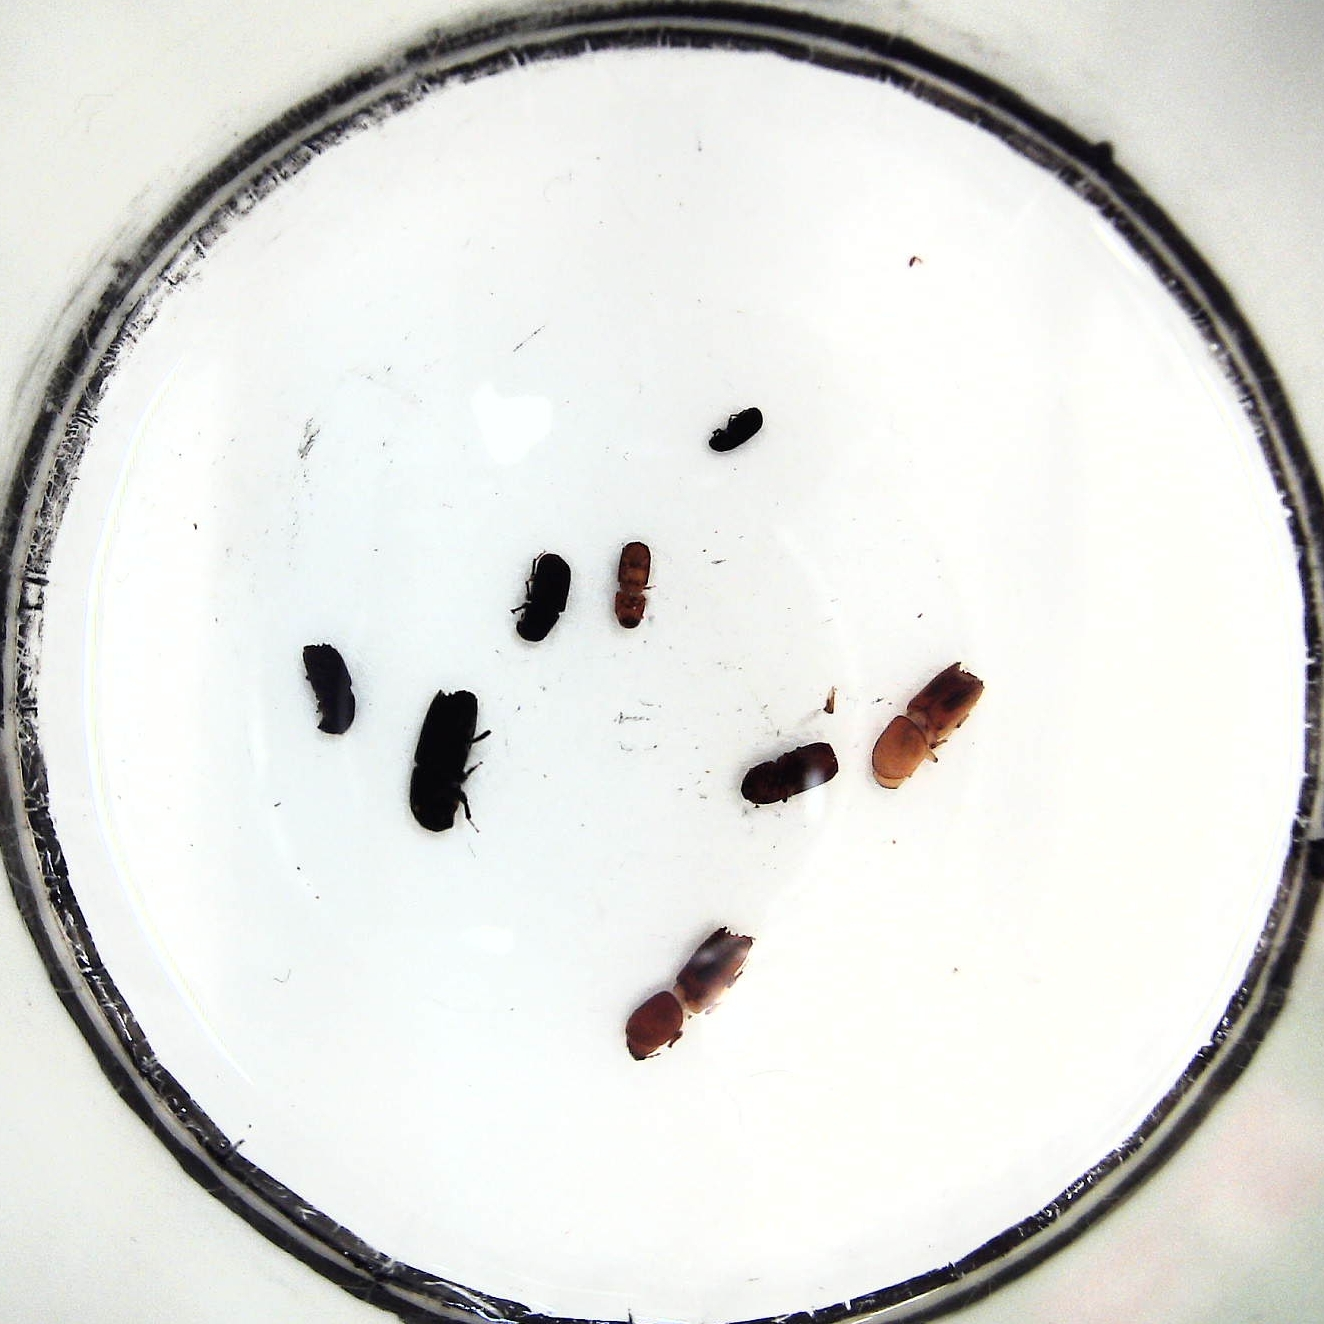Boerner: (621, 924, 755, 1062), (871, 660, 982, 793), (409, 685, 480, 837)
Linnaeus: (736, 741, 841, 807), (295, 643, 359, 741)
acuminatus: (607, 540, 652, 639)
armandi: (510, 554, 573, 645)
coleoptera: (704, 403, 767, 453)
